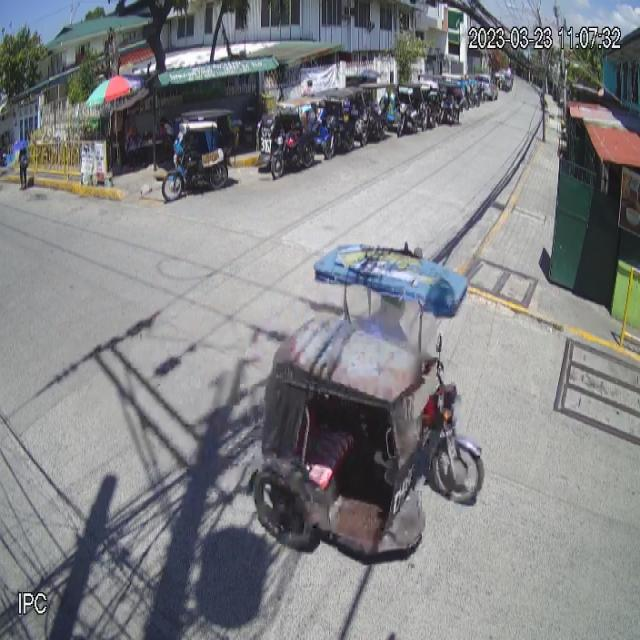Tricycle: (252, 242, 486, 564)
